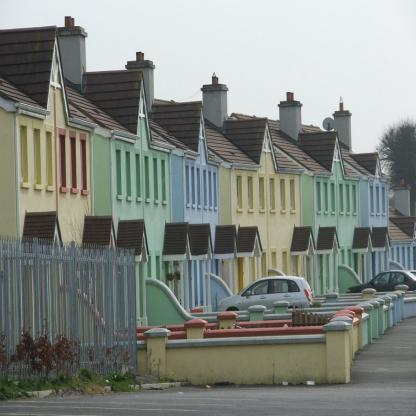Car: (216, 271, 315, 314), (347, 269, 416, 293), (393, 269, 416, 280)
